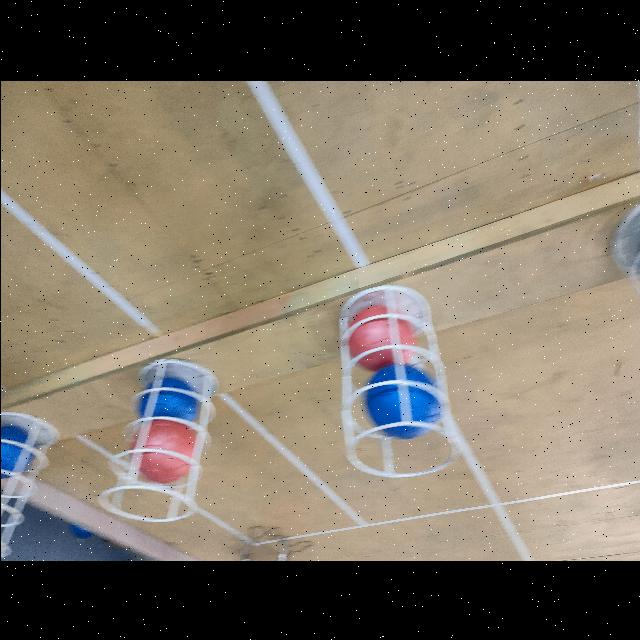B: (362, 363, 440, 437), (135, 376, 195, 426), (1, 424, 34, 478), (636, 226, 640, 288)
R: (130, 418, 194, 482), (348, 308, 414, 370)
